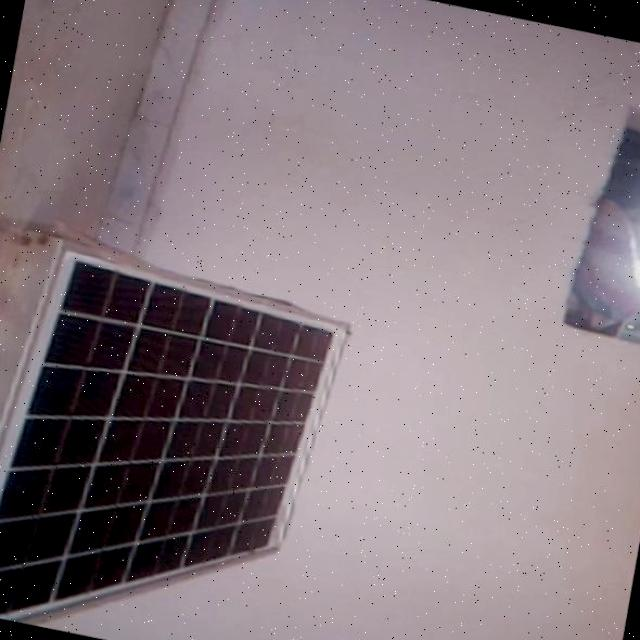Normal Solar Panel: (1, 231, 367, 640)
